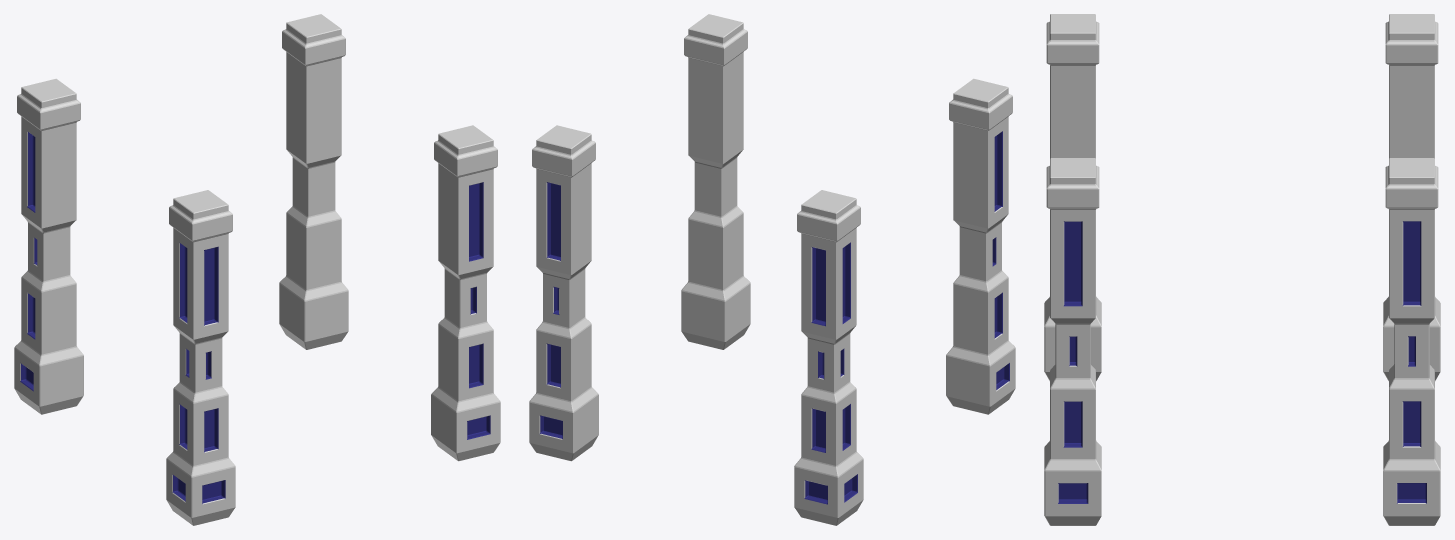
Rendered from pillarsOnlyNoSupport.fbx.
The picture shows the model from 3 angles, left to right: view 1: azimuth 30°, elevation 25°; view 2: azimuth 150°, elevation 25°; view 3: azimuth 270°, elevation 25°; orthographic projection. The views are drawn at different scales.
Parts seen in each view (by area): view 1: onlyPillarsNoSupports; view 2: onlyPillarsNoSupports; view 3: onlyPillarsNoSupports.
Boxes of the visible parts, bbox=[...] form: onlyPillarsNoSupports: bbox=[14, 14, 500, 525]; onlyPillarsNoSupports: bbox=[529, 14, 1015, 525]; onlyPillarsNoSupports: bbox=[1044, 14, 1440, 525].
Bounding box in the file's own units: 207 × 200 × 206.
